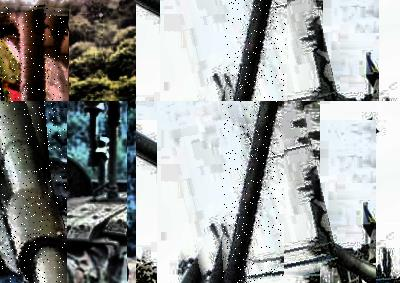tanks: (1, 102, 67, 283), (224, 102, 284, 283), (1, 7, 68, 102), (234, 1, 272, 102)
